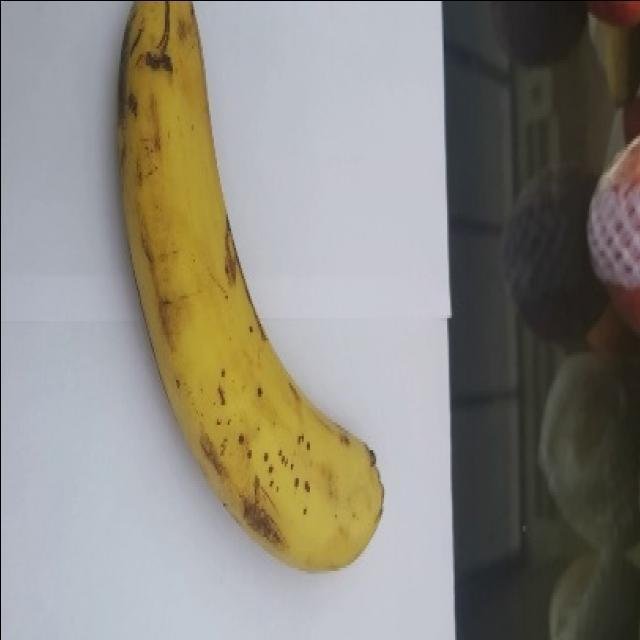Banana: (110, 0, 393, 580)
